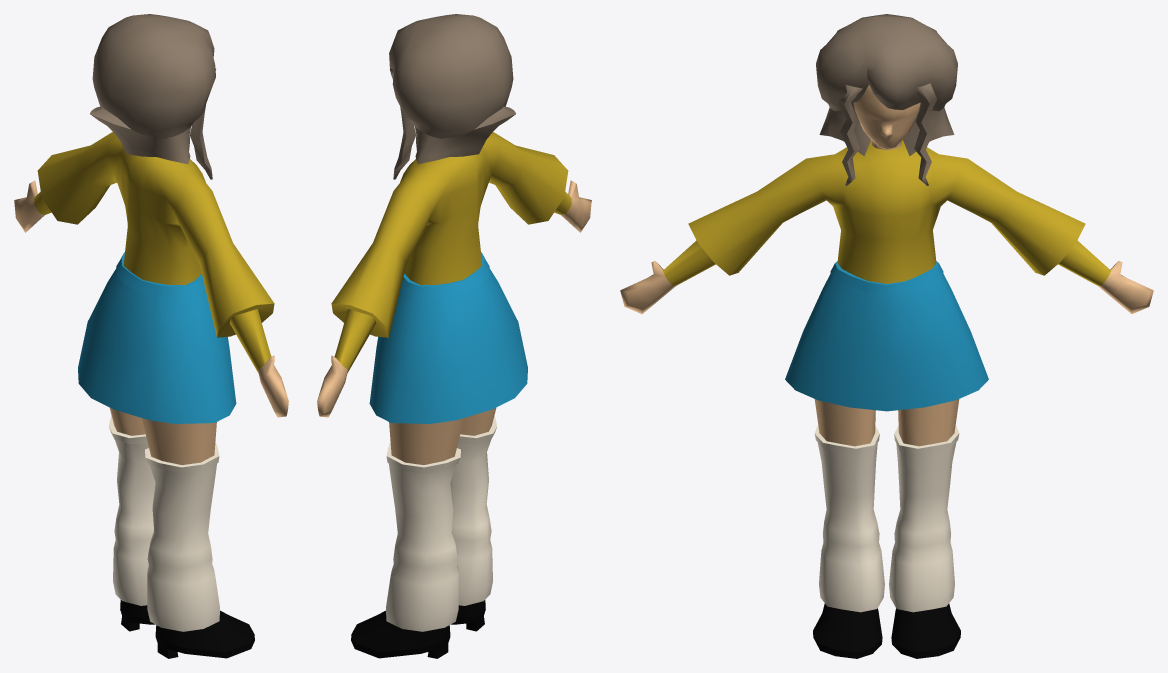
The model's file is ProjManagement_Protag_Model_forSubstance.fbx.
3 renders of one model, left to right at view 1: azimuth 30°, elevation 25°; view 2: azimuth 150°, elevation 25°; view 3: azimuth 270°, elevation 25°, orthographic. The views are drawn at different scales.
Visible parts, largest first — view 1: Body, Hair, Bangs; view 2: Body, Hair, Bangs; view 3: Body, Hair, Bangs, Head.
Boxes of the visible parts, x1,y1,x2,y2 form: Body: [14, 132, 288, 658]; Hair: [90, 14, 215, 164]; Bangs: [189, 69, 215, 179]; Body: [317, 132, 591, 658]; Hair: [389, 14, 515, 164]; Bangs: [390, 68, 416, 179]; Body: [620, 140, 1153, 658]; Hair: [816, 14, 957, 156]; Bangs: [838, 83, 936, 185]; Head: [853, 85, 920, 149].
Size of the model in its own units: 50.46 by 206 by 166.
